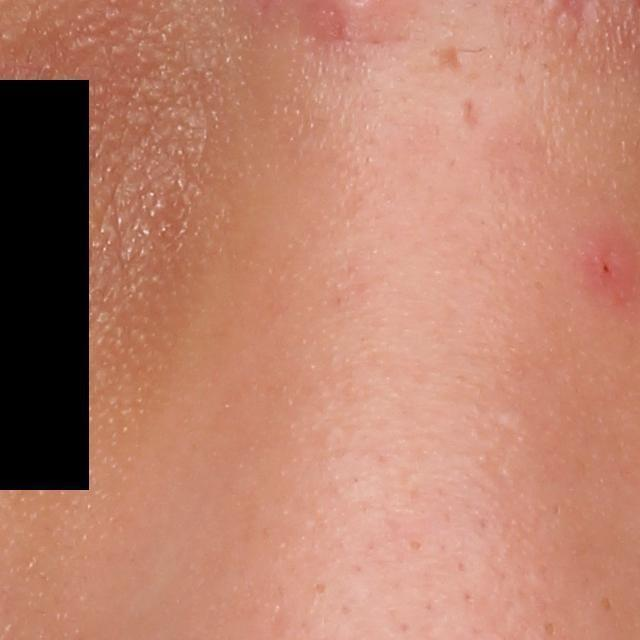atrophic_scar: (426, 35, 466, 75), (455, 93, 482, 135)
